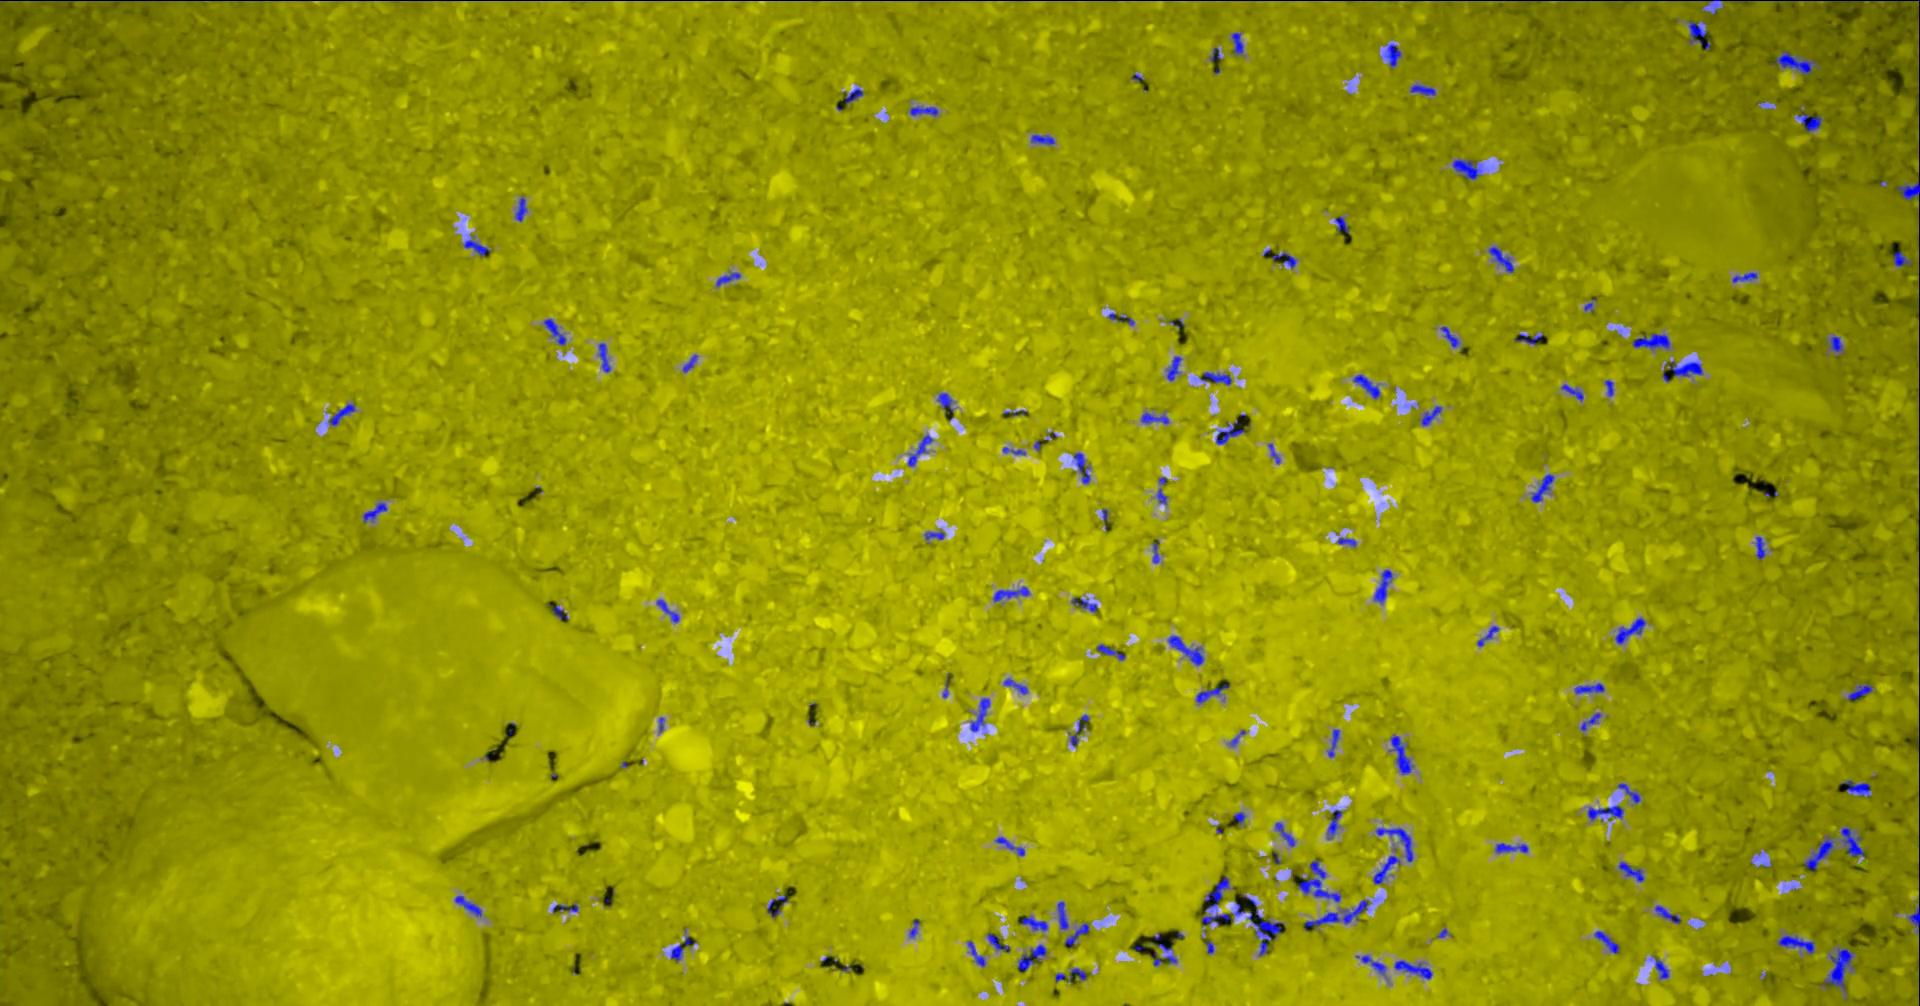ant: (1234, 894, 1284, 955), (1303, 899, 1368, 930), (1297, 859, 1340, 901), (1823, 948, 1854, 992), (1375, 827, 1412, 861), (1167, 635, 1203, 666), (1771, 50, 1815, 74), (1803, 836, 1834, 869), (1389, 734, 1412, 774), (1662, 359, 1702, 381), (907, 434, 933, 466), (1204, 876, 1229, 909), (1371, 855, 1399, 883), (1017, 944, 1046, 970), (1393, 960, 1432, 979), (1615, 617, 1644, 643), (1530, 473, 1554, 502), (1840, 827, 1864, 856), (1632, 332, 1669, 351), (1487, 246, 1514, 272), (1777, 935, 1815, 953), (1704, 0, 1752, 14), (1895, 171, 1919, 199), (969, 697, 989, 730), (1373, 569, 1392, 603), (1195, 683, 1229, 702), (1352, 373, 1379, 398), (1688, 22, 1710, 50), (328, 403, 356, 426), (1451, 158, 1481, 179), (1215, 423, 1244, 445), (670, 936, 695, 962), (1592, 930, 1619, 953), (543, 318, 565, 345), (1064, 923, 1090, 946), (1355, 955, 1385, 974), (1070, 714, 1088, 746), (992, 586, 1029, 601), (994, 836, 1023, 855), (1587, 805, 1623, 821), (455, 895, 481, 916), (1841, 779, 1870, 796), (1618, 861, 1643, 882), (1073, 452, 1090, 483), (657, 600, 678, 622), (362, 502, 386, 522), (1617, 782, 1641, 803), (1274, 822, 1294, 846), (1655, 904, 1680, 923), (1096, 644, 1125, 661), (463, 239, 490, 257), (968, 940, 985, 967), (1477, 625, 1498, 647), (1326, 809, 1341, 840), (767, 894, 787, 917), (1201, 913, 1229, 930), (1054, 968, 1086, 982), (1797, 113, 1821, 131), (937, 392, 952, 420), (1271, 251, 1297, 268), (1439, 326, 1459, 347), (1421, 405, 1441, 426), (987, 934, 1010, 951), (1199, 371, 1230, 384), (1384, 43, 1401, 67), (1559, 384, 1583, 400), (1848, 683, 1872, 700), (1020, 916, 1048, 930), (597, 342, 610, 372), (1166, 354, 1181, 380), (1070, 597, 1097, 611), (1003, 678, 1027, 694), (1580, 713, 1600, 730), (715, 272, 740, 286), (1495, 842, 1528, 852), (1575, 682, 1604, 694), (1109, 312, 1134, 325), (1514, 333, 1542, 344), (1140, 412, 1168, 423), (1327, 729, 1338, 757), (1057, 901, 1068, 929), (1907, 904, 1919, 932), (547, 603, 568, 619), (844, 86, 862, 103), (1230, 32, 1243, 55), (1410, 84, 1435, 95), (1892, 250, 1911, 265), (909, 105, 937, 116), (1156, 476, 1166, 504), (1655, 958, 1669, 978), (682, 354, 697, 372), (1754, 536, 1765, 559), (1732, 272, 1757, 282), (1030, 133, 1054, 144), (516, 197, 526, 221), (1335, 216, 1349, 232), (552, 903, 578, 912), (1829, 335, 1843, 351), (1337, 537, 1356, 546), (1604, 379, 1613, 396), (924, 531, 943, 539), (110, 0, 161, 1)
